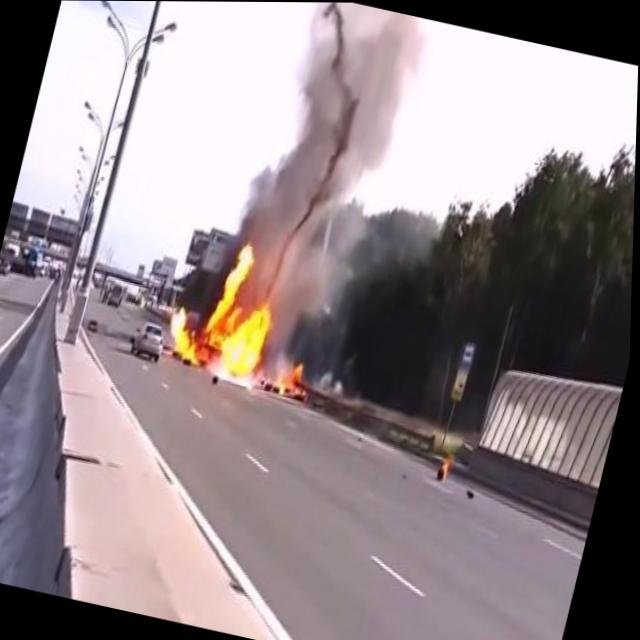fire: (155, 226, 341, 407), (440, 449, 458, 481)
